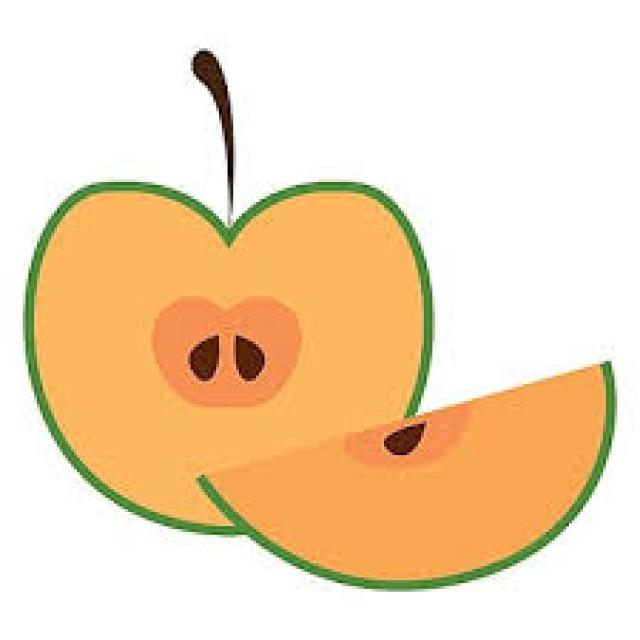Apple: (32, 177, 431, 527), (200, 365, 616, 583)
